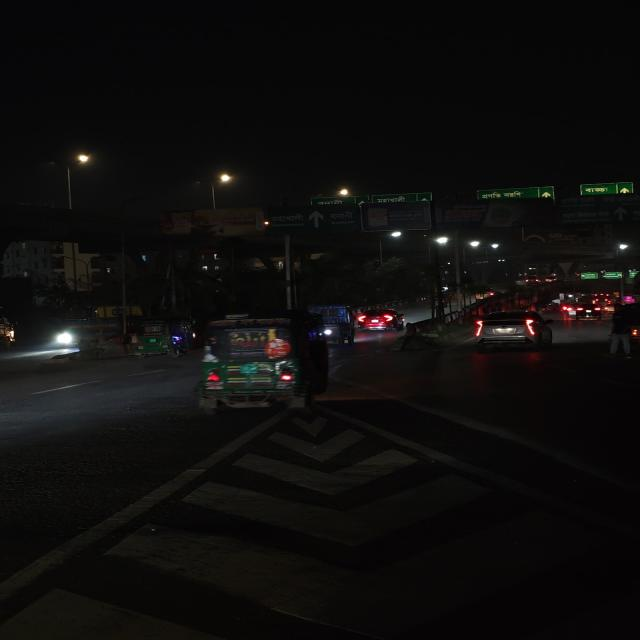car: (470, 310, 555, 350), (356, 306, 407, 332), (572, 304, 596, 320)
cng: (194, 316, 329, 415), (125, 316, 193, 358), (316, 305, 356, 345)
